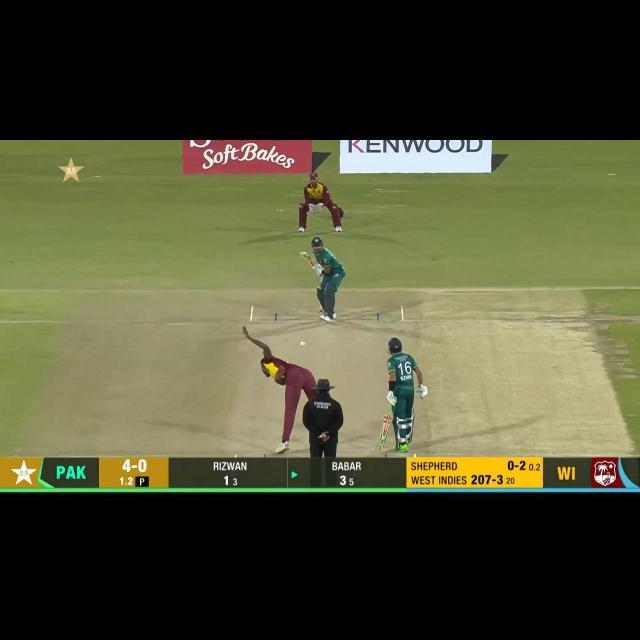bat: (377, 415, 391, 451), (299, 251, 316, 264)
toe: (376, 444, 384, 451), (299, 251, 307, 256)
